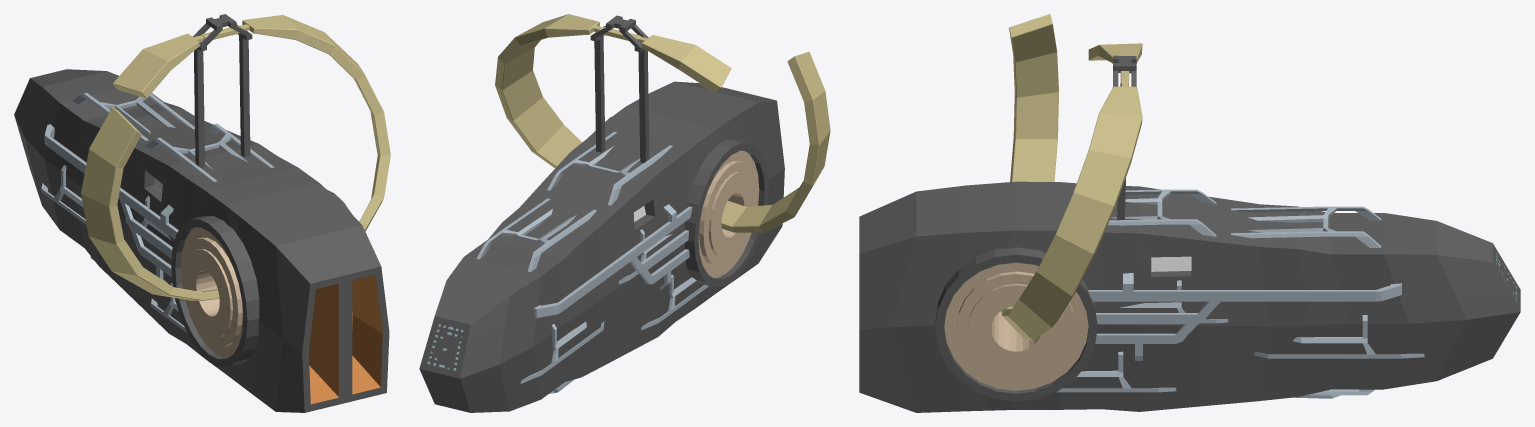
Rendered from mothership destroyed.fbx.
The picture shows the model from 3 angles, left to right: view 1: azimuth 30°, elevation 25°; view 2: azimuth 150°, elevation 25°; view 3: azimuth 270°, elevation 25°; orthographic projection. The views are drawn at different scales.
Parts seen in each view (by area): view 1: Mothership Rear, Mothershio Front, Crown ring 2, Crown ring 1; view 2: Mothership Rear, Mothershio Front, Crown ring 2, Crown ring 1; view 3: Mothership Rear, Mothershio Front, Crown ring 2, Crown ring 1.
Part boxes in pixels (box(x1,y1,x2,y2)): Mothership Rear: box(100, 14, 389, 412); Mothershio Front: box(14, 69, 192, 266); Crown ring 2: box(113, 15, 390, 231); Crown ring 1: box(81, 107, 219, 300); Mothership Rear: box(514, 15, 784, 380); Mothershio Front: box(419, 207, 606, 412); Crown ring 2: box(495, 14, 731, 168); Crown ring 1: box(721, 52, 830, 232); Mothership Rear: box(859, 55, 1311, 412); Mothershio Front: box(1254, 203, 1520, 398); Crown ring 2: box(1001, 43, 1142, 340); Crown ring 1: box(1009, 14, 1058, 181).
Bounding box in the file's own units: 71905 × 67223 × 122262.
